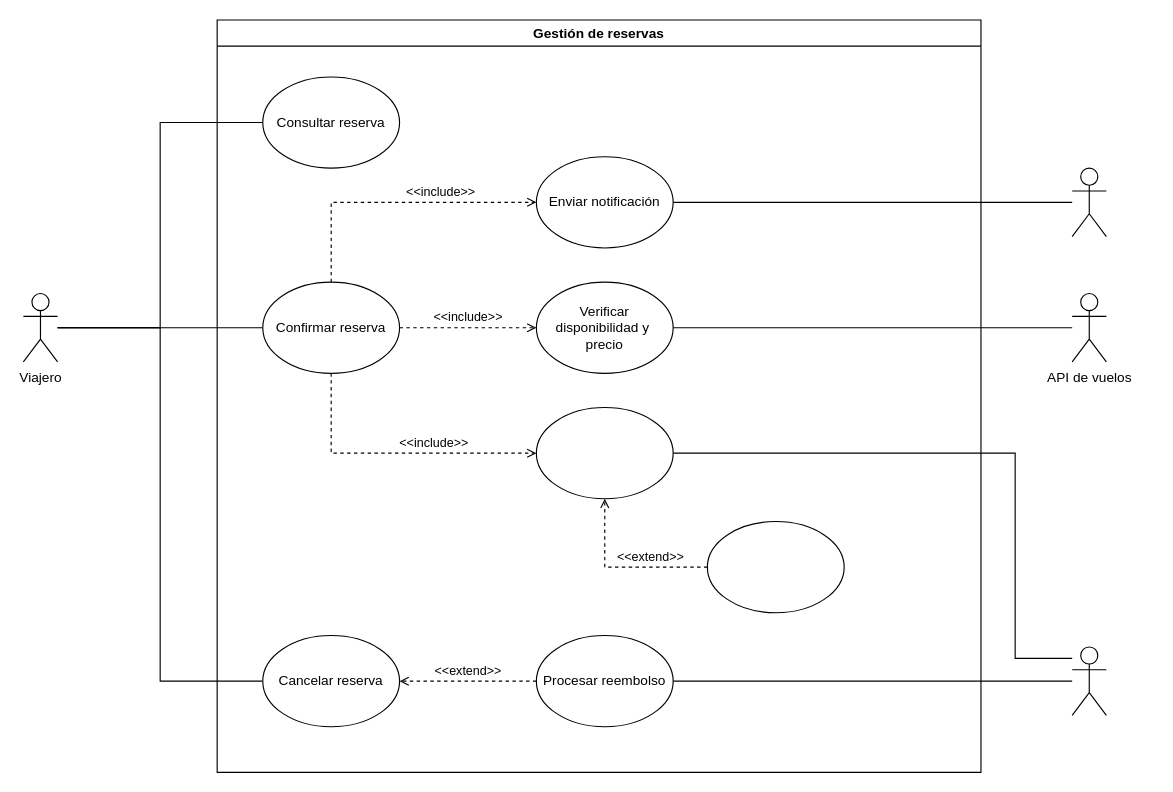
Image size: 1173x792. Some labels were removed from this diagram. The centre of each missing label's shape, as x and y in pixels:
API de notificaciones: point (1088, 202)
API de pagos: point (1088, 680)
Procesar pago: point (604, 452)
Rechazar transacción: point (775, 566)
